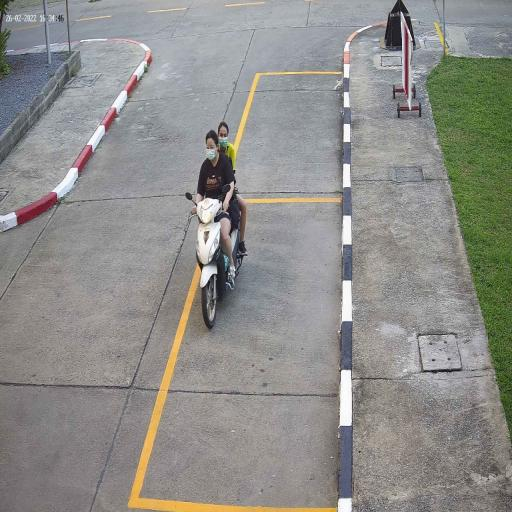motorcycle: (194, 195, 228, 331)
